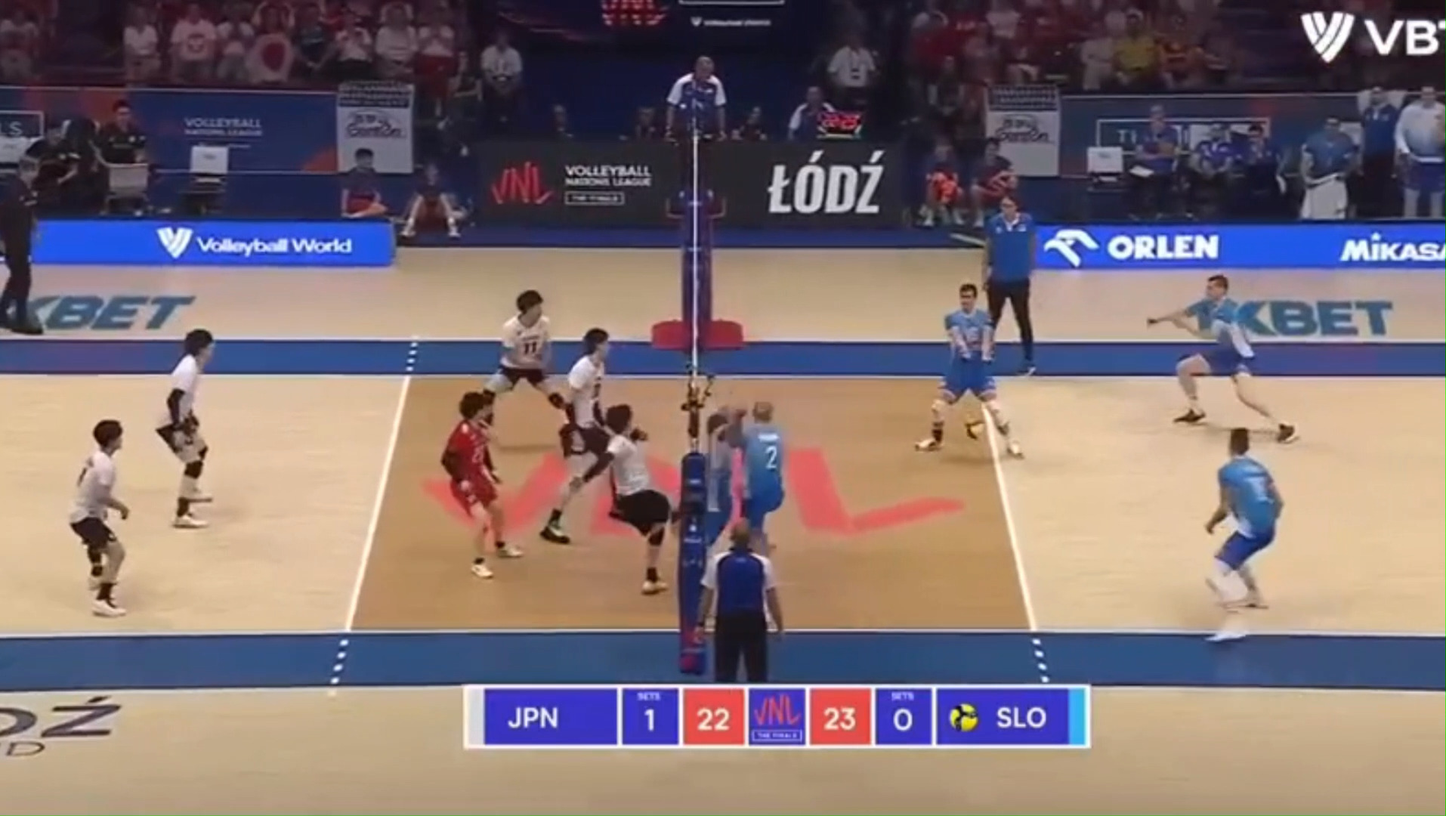ball: (966, 419, 986, 438)
player: (1147, 274, 1296, 443), (915, 283, 1021, 456), (1205, 428, 1283, 642), (737, 401, 785, 554), (702, 411, 736, 548)
player 1: (572, 403, 672, 594), (539, 327, 610, 543), (440, 391, 521, 578), (68, 419, 129, 617), (154, 329, 214, 528), (483, 289, 564, 410)
referee: (696, 518, 783, 682), (665, 56, 726, 214), (984, 196, 1035, 374), (0, 159, 43, 335)
